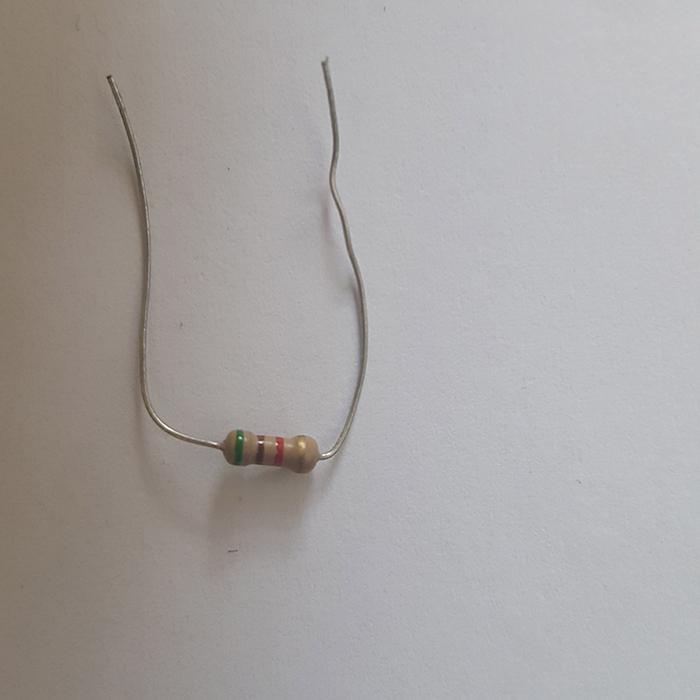resistor: (223, 428, 323, 472)
